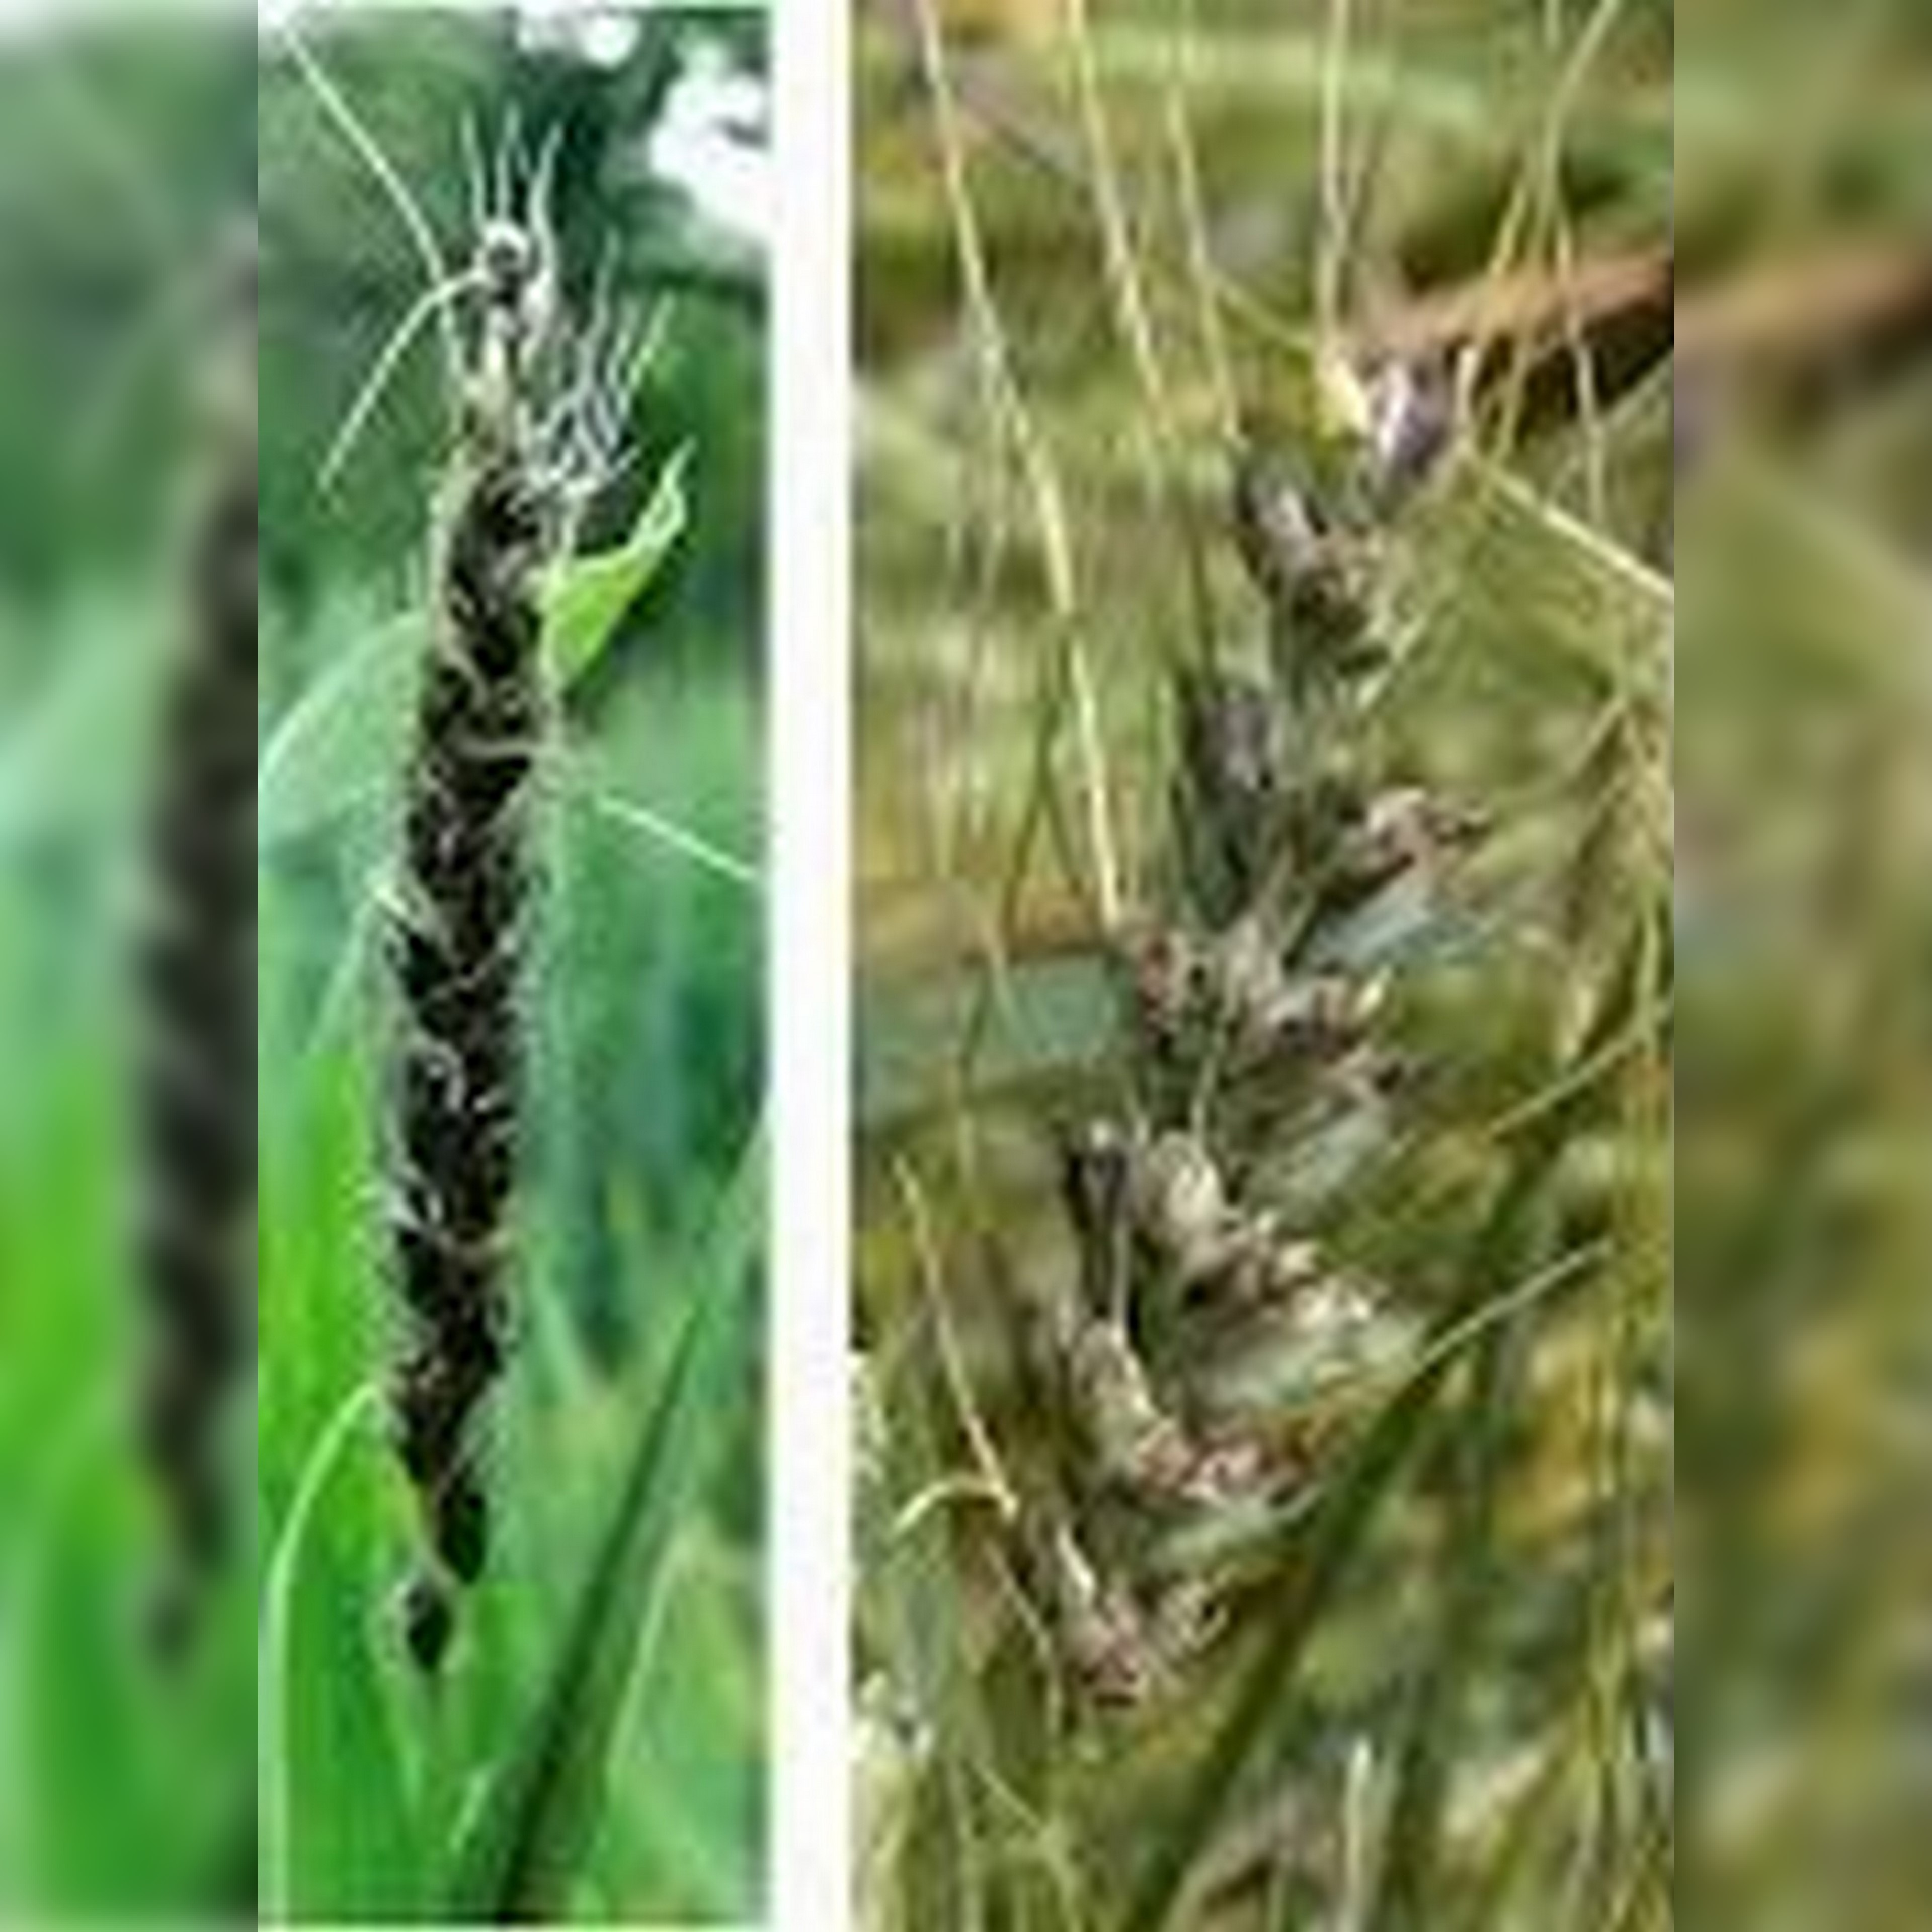Wheat Loose Smut: (357, 331, 596, 1566)
